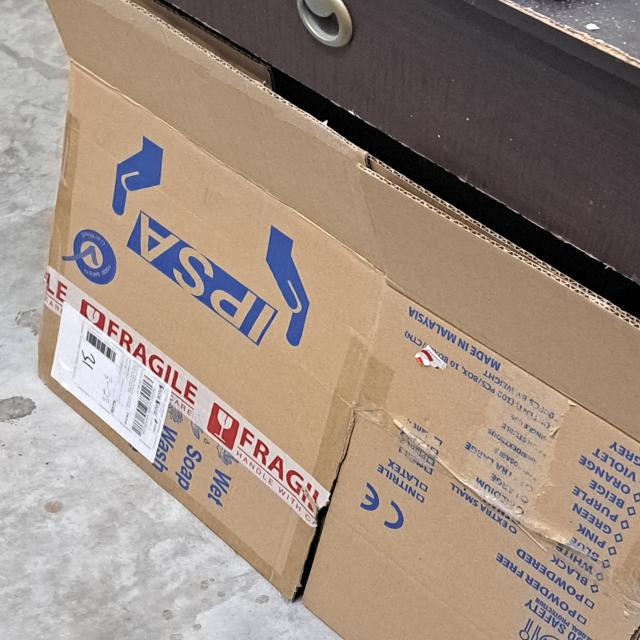cardboard: (39, 0, 640, 640)
